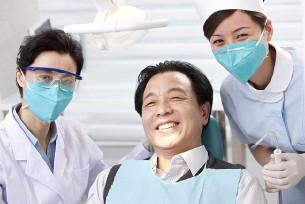NONE: (143, 85, 199, 146)
OK: (210, 27, 264, 81), (24, 70, 78, 121)
